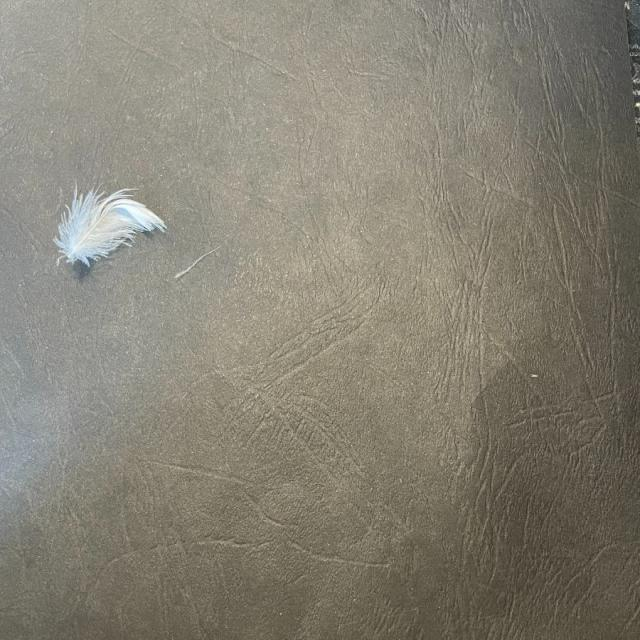feather: (54, 184, 174, 266)
